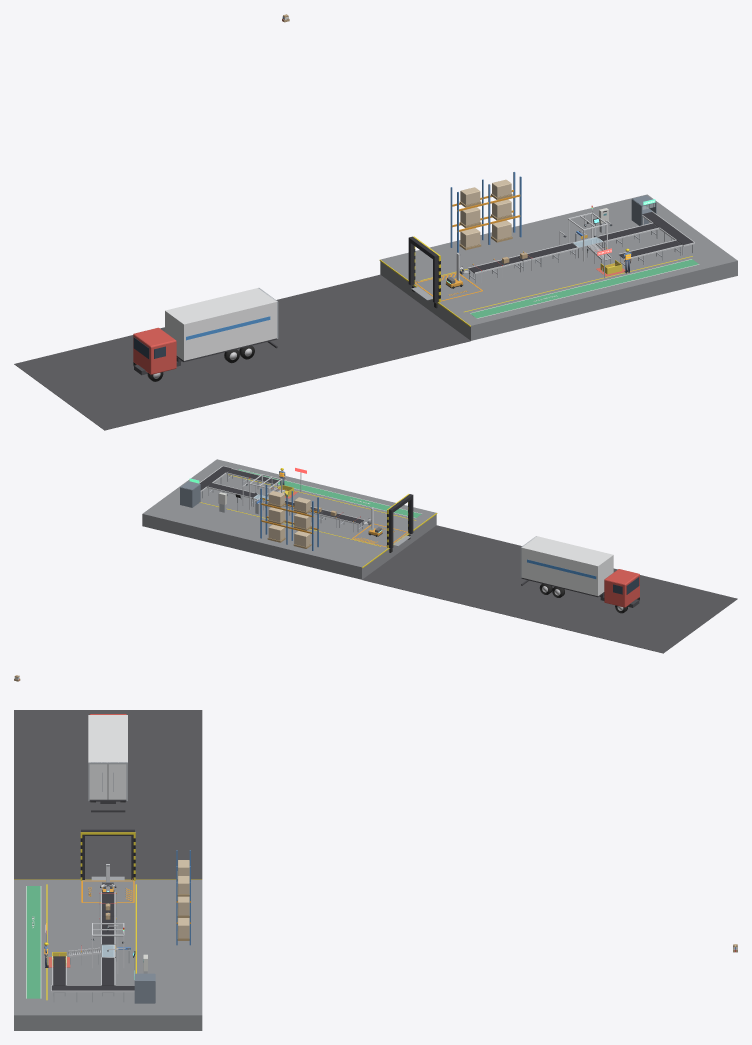
Rendered from estacion.glb.
3 views of the same model, one above another, from view 1: azimuth 30°, elevation 25°; view 2: azimuth 150°, elevation 25°; view 3: azimuth 270°, elevation 25° (orthographic). The views are drawn at different scales.
Visible parts, largest first — view 1: Patio, Piso, Remolque_Lateral_-1, Remolque_Techo, Senda_Peatonal, Cabina; view 2: Patio, Piso, Remolque_Lateral_+1, Remolque_Techo, Cabina, Senda_Peatonal; view 3: Patio, Piso, Remolque_Techo, Senda_Peatonal, Puerta_D_Hoja, Puerta_I_Hoja.
Boxes of the visible parts, x1=… form: Patio: x1=14, y1=274, x2=470, y2=430; Piso: x1=380, y1=194, x2=737, y2=340; Remolque_Lateral_-1: x1=184, y1=302, x2=276, y2=360; Remolque_Techo: x1=165, y1=288, x2=277, y2=325; Senda_Peatonal: x1=470, y1=259, x2=698, y2=318; Cabina: x1=133, y1=327, x2=176, y2=374; Patio: x1=362, y1=525, x2=737, y2=653; Piso: x1=142, y1=459, x2=436, y2=579; Remolque_Lateral_+1: x1=521, y1=548, x2=598, y2=595; Remolque_Techo: x1=522, y1=536, x2=613, y2=566; Cabina: x1=604, y1=569, x2=639, y2=607; Senda_Peatonal: x1=238, y1=469, x2=421, y2=517; Patio: x1=14, y1=710, x2=202, y2=879; Piso: x1=14, y1=880, x2=202, y2=1030; Remolque_Techo: x1=88, y1=715, x2=127, y2=762; Senda_Peatonal: x1=26, y1=886, x2=40, y2=998; Puerta_D_Hoja: x1=89, y1=764, x2=107, y2=799; Puerta_I_Hoja: x1=108, y1=764, x2=126, y2=799.
Size of what is drawn, in the model's own units: 48.4 by 5.52 by 46.16.
Materials: 84 (1 with a texture image).
